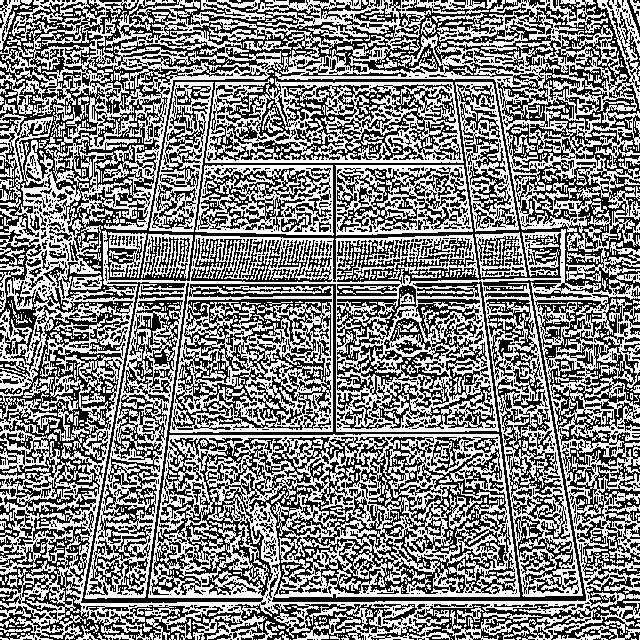left side: (82, 80, 214, 601), (452, 80, 584, 599)
player: (242, 484, 290, 614), (382, 272, 431, 350), (257, 62, 290, 140), (411, 7, 444, 73)
